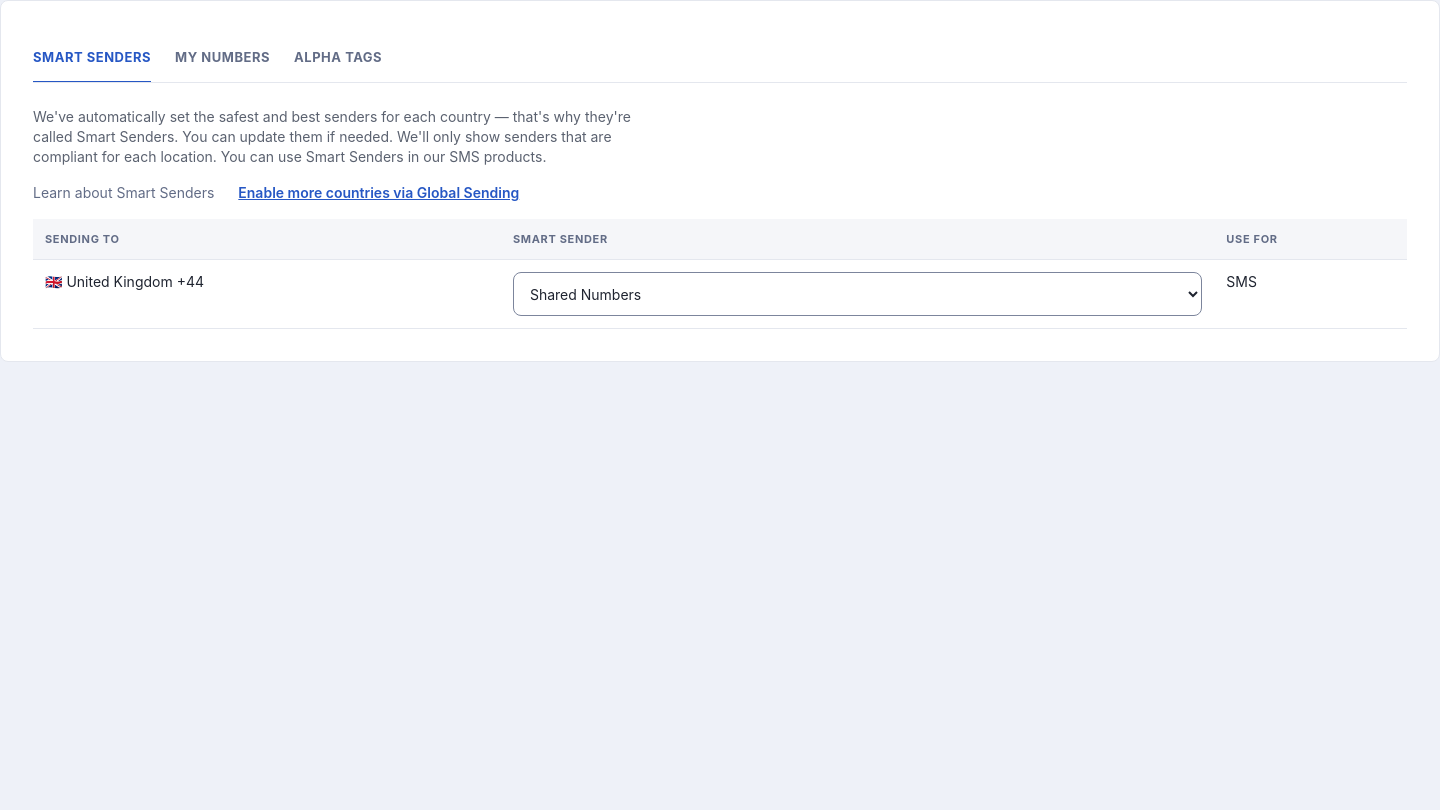
Test: AlphaTagsTab › opens the register modal from Add
Click the tab "Alpha Tags" at (338,58), box [294,33,382,83]
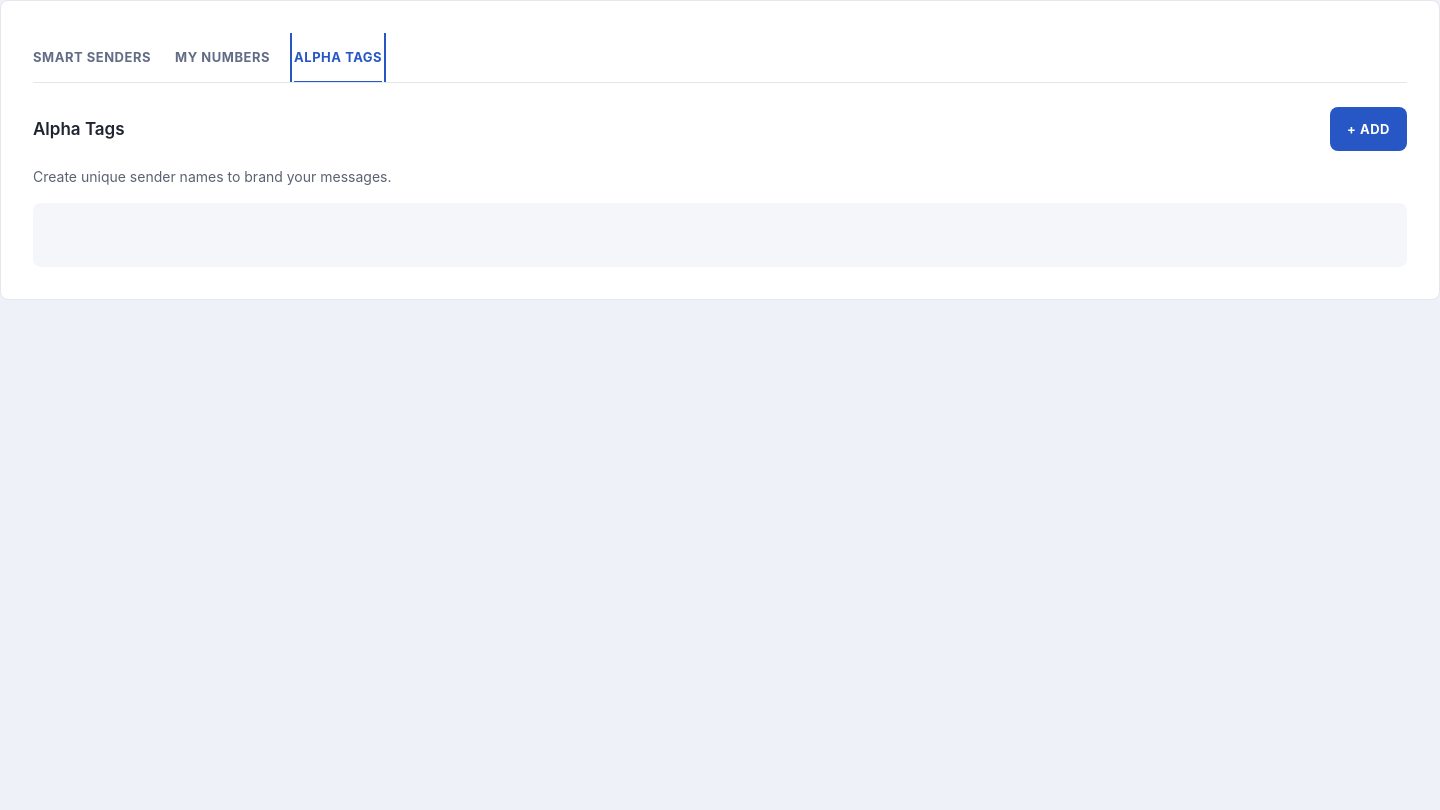
Click the button "+ Add" at (1368,129), box [1330,107,1407,151]
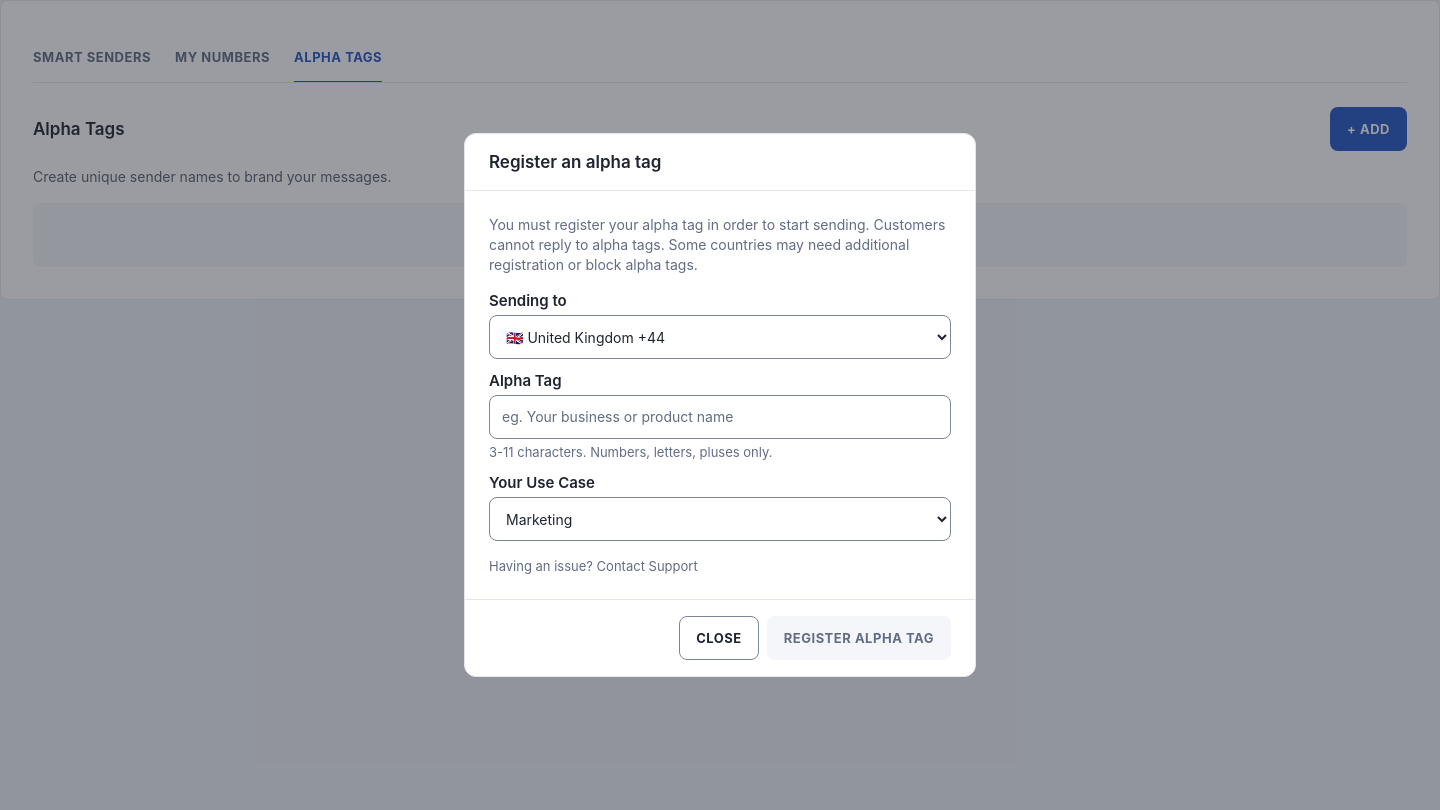
Now the dialog "Register an alpha tag" is shown, box [464,133,976,677]
